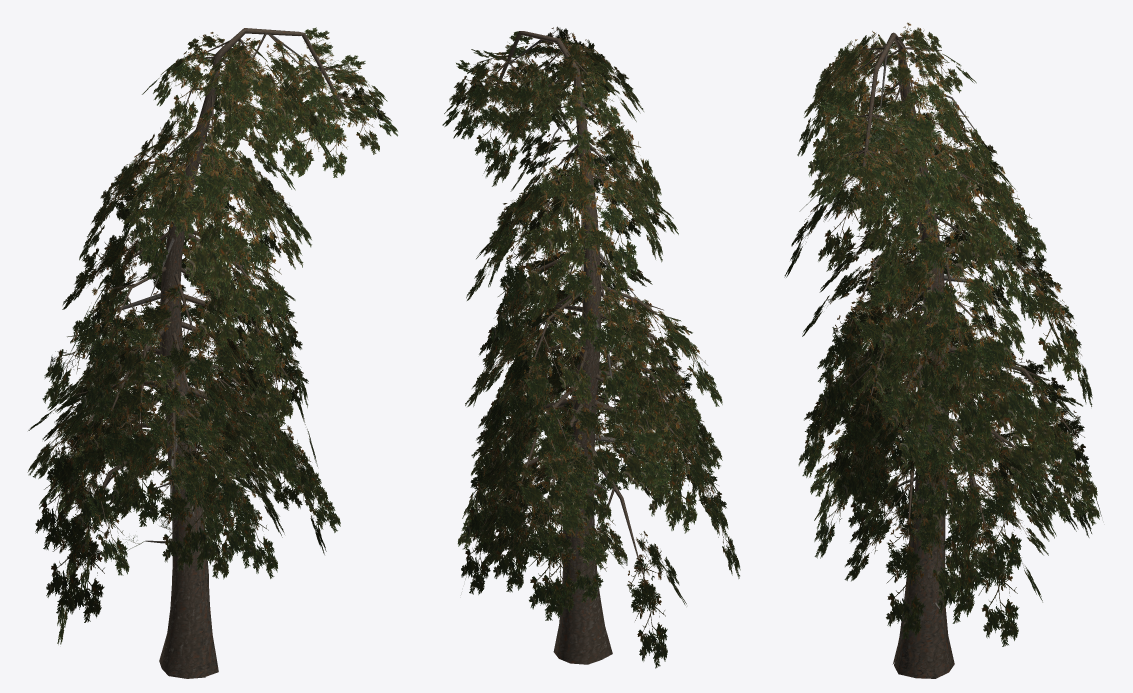
Rendered from tree_v6_pine_mangy_droop_autumn.glb.
3 renders of one model, left to right at view 1: azimuth 30°, elevation 25°; view 2: azimuth 150°, elevation 25°; view 3: azimuth 270°, elevation 25°, orthographic. The views are drawn at different scales.
Parts seen in each view (by area): view 1: tree_v6_pine_mangy_droop_autumn_LOD0; view 2: tree_v6_pine_mangy_droop_autumn_LOD0; view 3: tree_v6_pine_mangy_droop_autumn_LOD0.
Part boxes in pixels (<box>): tree_v6_pine_mangy_droop_autumn_LOD0: <box>27,27,397,678</box>; tree_v6_pine_mangy_droop_autumn_LOD0: <box>442,26,740,668</box>; tree_v6_pine_mangy_droop_autumn_LOD0: <box>784,22,1101,678</box>.
Size of what is drawn, in the model's own units: 5.89 by 10.9 by 5.07.
1 material, 1 textured.
